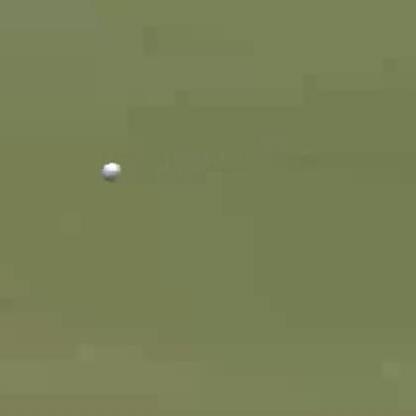golfball: (100, 160, 120, 180)
